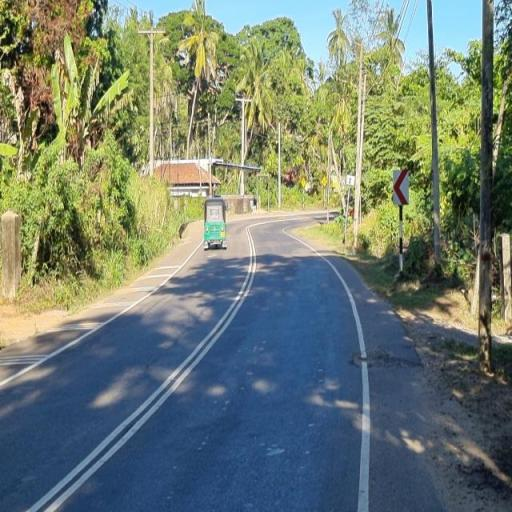double_white_line: (24, 222, 262, 512)
